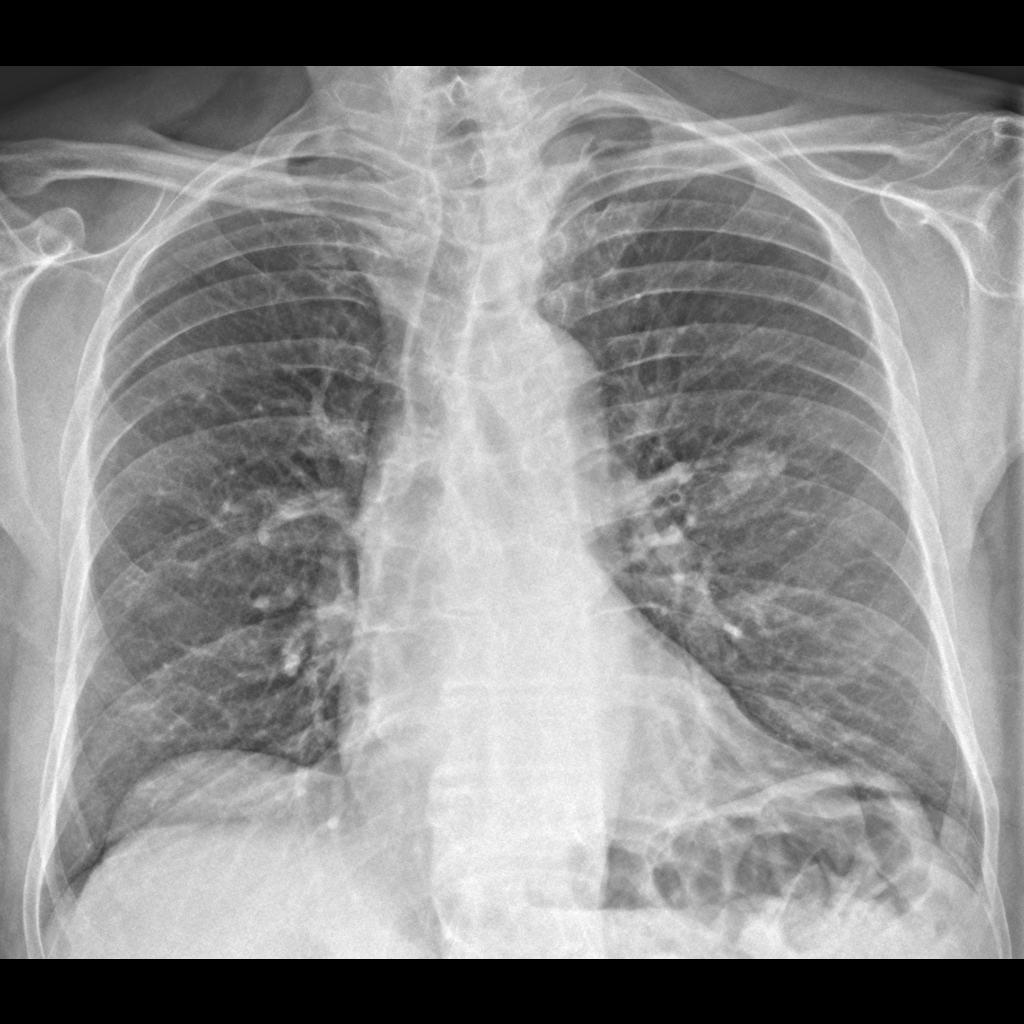Nodule: (717, 436, 790, 502)
